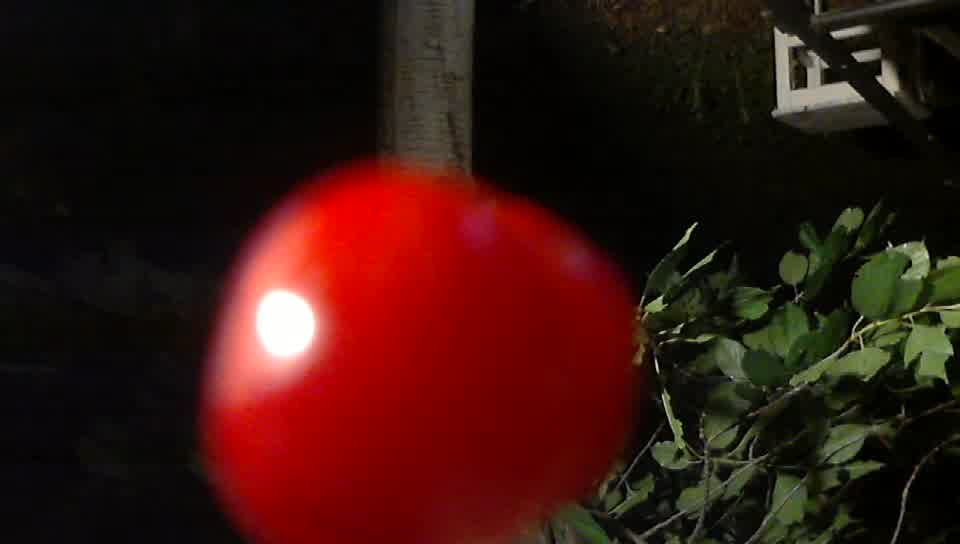Cherry: (146, 143, 672, 544)
